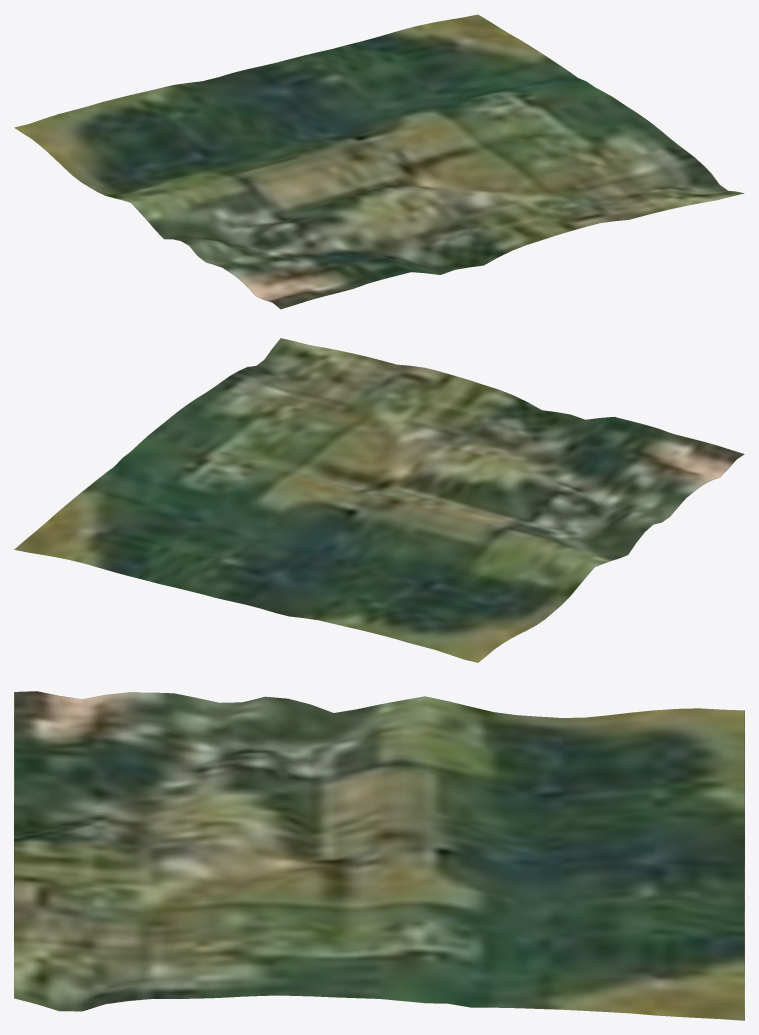
3 renders of one model, top to bottom at view 1: azimuth 30°, elevation 25°; view 2: azimuth 150°, elevation 25°; view 3: azimuth 270°, elevation 25°, orthographic. The views are drawn at different scales.
Bounding box in the file's own units: 975 × 54.94 × 971.
Materials: 1 (1 with a texture image).
